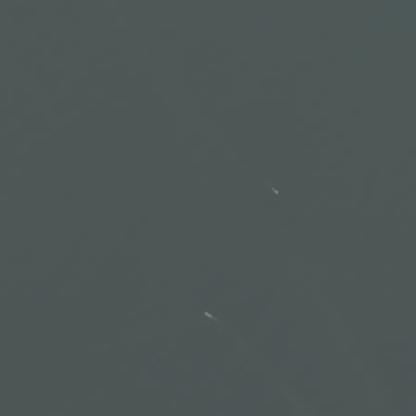ship: (194, 305, 217, 321), (265, 183, 285, 197)
